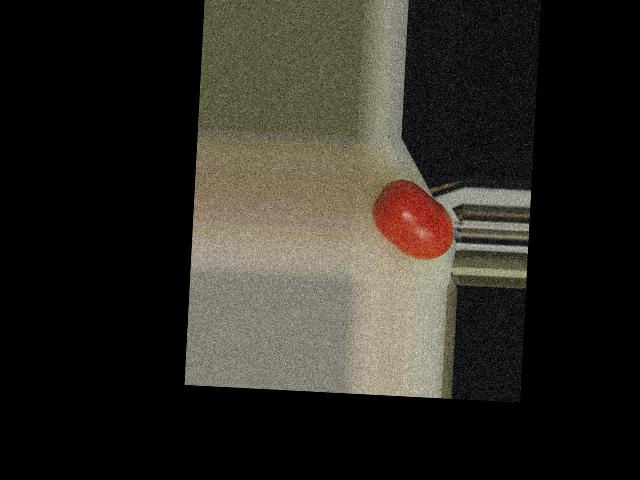tomato: (370, 178, 456, 261)
